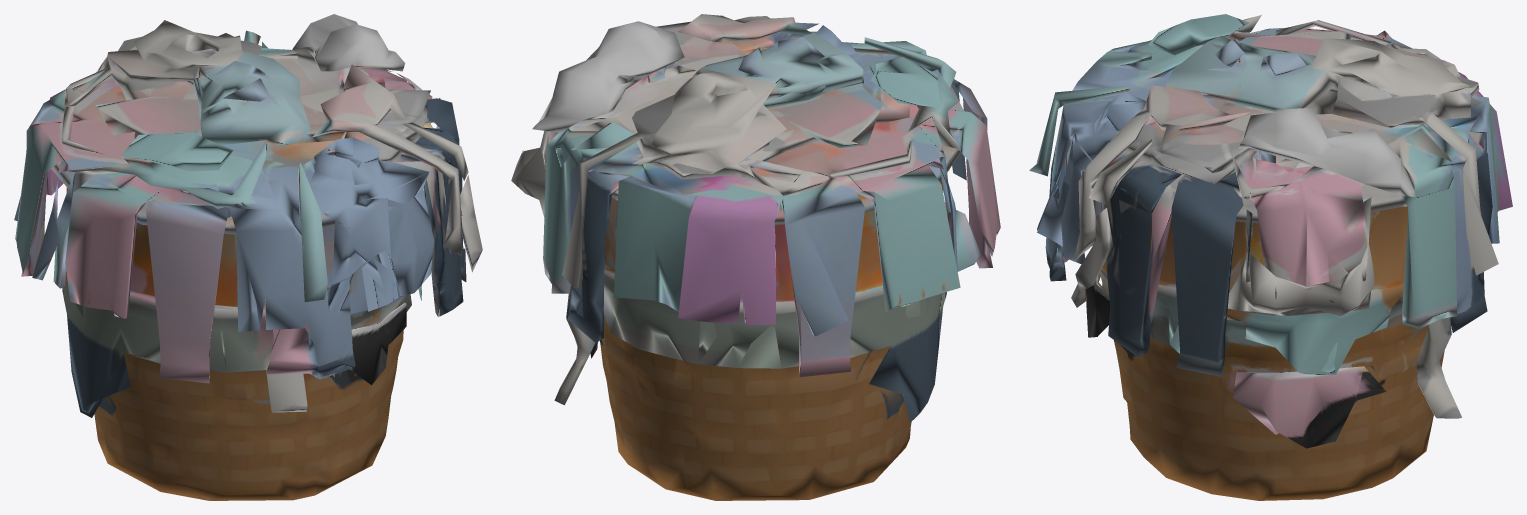
File: canasta de ropa.fbx
3 views of the same model, side by side, from view 1: azimuth 30°, elevation 25°; view 2: azimuth 150°, elevation 25°; view 3: azimuth 270°, elevation 25° (orthographic). The views are drawn at different scales.
Parts seen in each view (by area): view 1: tripo_node_a790058c; view 2: tripo_node_a790058c; view 3: tripo_node_a790058c.
Boxes of the visible parts, <box> form: tripo_node_a790058c: <box>14,14,482,500</box>; tripo_node_a790058c: <box>511,14,1000,500</box>; tripo_node_a790058c: <box>1029,14,1512,500</box>.
Bounding box in the file's own units: 0.997 × 0.8943 × 0.9772.
1 material, 1 textured.
